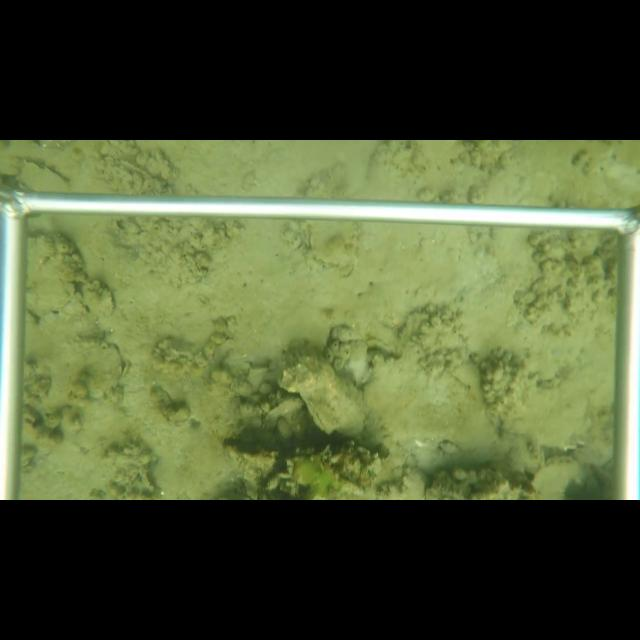Oyster-Closed: (298, 378, 375, 437), (69, 334, 128, 397), (527, 455, 599, 500), (275, 354, 339, 394), (14, 155, 74, 191), (258, 398, 304, 432), (79, 280, 117, 319)
